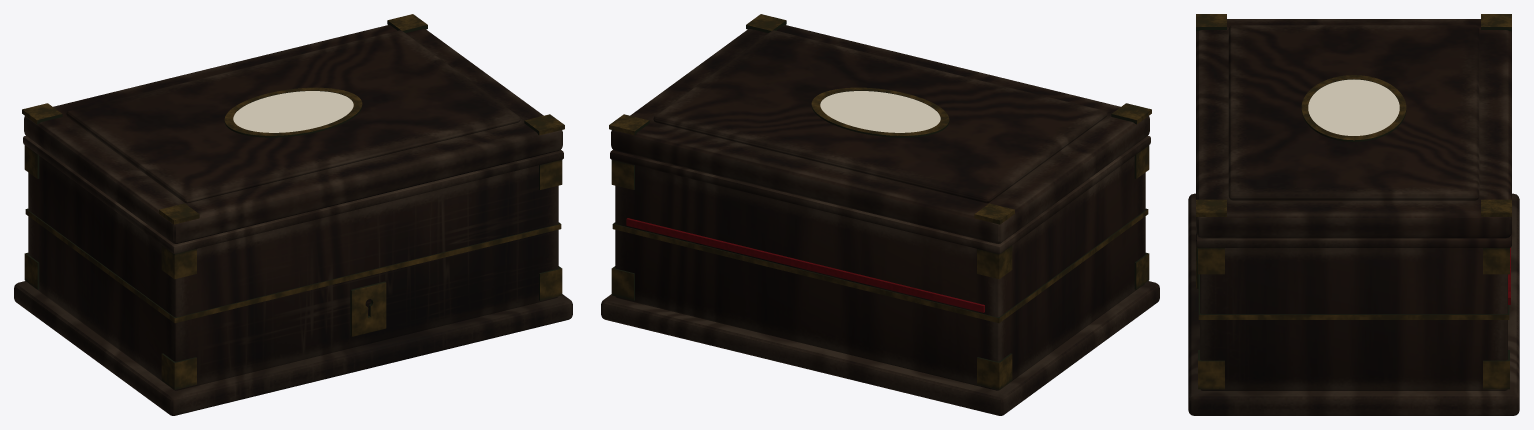
File: music_box.glb
3 views of the same model, side by side, from view 1: azimuth 30°, elevation 25°; view 2: azimuth 150°, elevation 25°; view 3: azimuth 270°, elevation 25° (orthographic). The views are drawn at different scales.
Visible parts, largest first — view 1: Body, Lid; view 2: Body, Lid, Inner; view 3: Lid, Body.
Part boxes in pixels (box(x1,y1,x2,y2)): Body: box(14, 136, 572, 415); Lid: box(22, 14, 564, 243); Body: box(601, 136, 1159, 415); Lid: box(609, 14, 1151, 243); Inner: box(626, 218, 984, 312); Lid: box(1196, 14, 1511, 238); Body: box(1188, 193, 1519, 415).
Bounding box in the file's own units: 0.252 × 0.119 × 0.172.
Materials: 17 (10 with a texture image).
